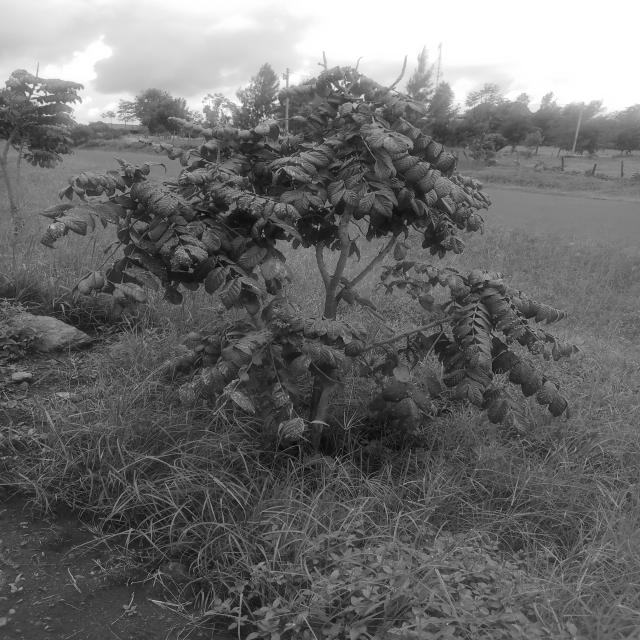Polyscias Kikuyensis: (42, 55, 599, 455)
